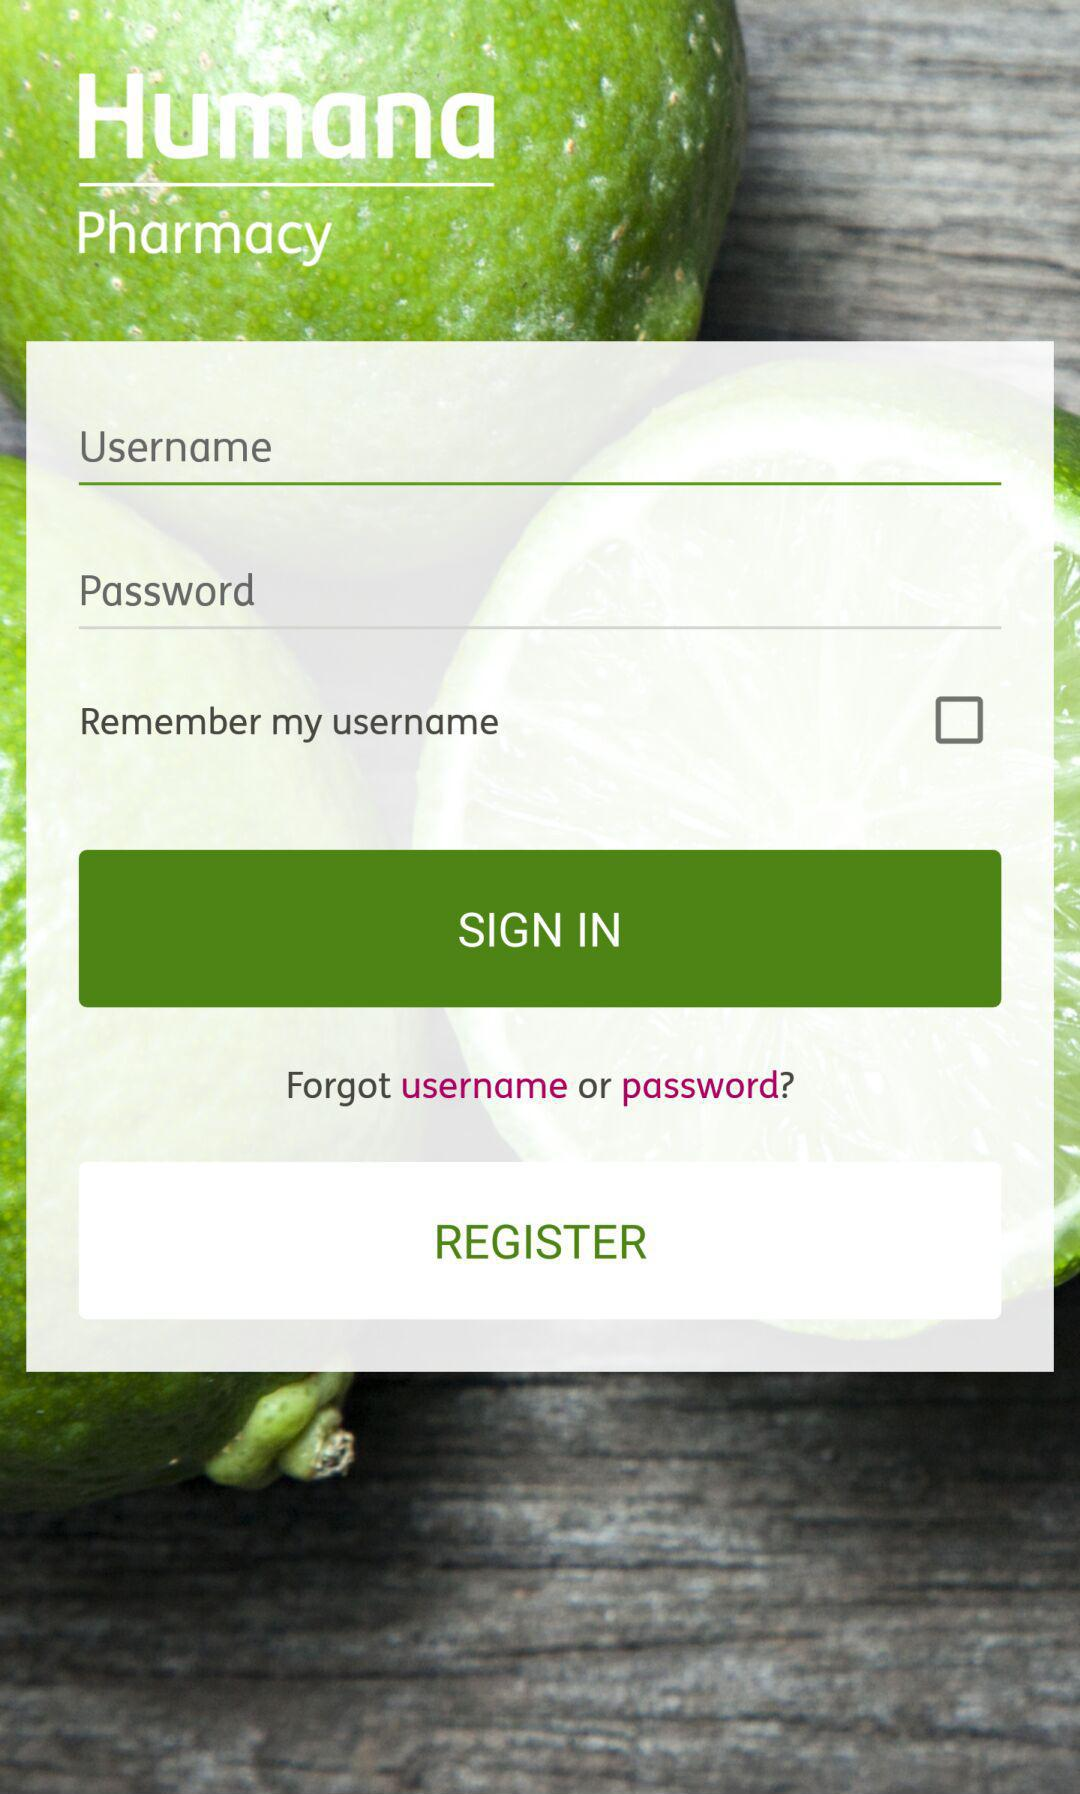BackgroundImage: (1, 1, 1080, 1794)
CheckedTextView: (82, 696, 984, 746)
EditText: (79, 572, 1002, 630), (79, 431, 1002, 487)
Text: (79, 73, 496, 163), (288, 1069, 796, 1108), (82, 705, 500, 745), (79, 208, 334, 269), (82, 431, 273, 464), (82, 572, 256, 607)
TextButton: (79, 850, 1002, 1008), (79, 1161, 1002, 1320)
